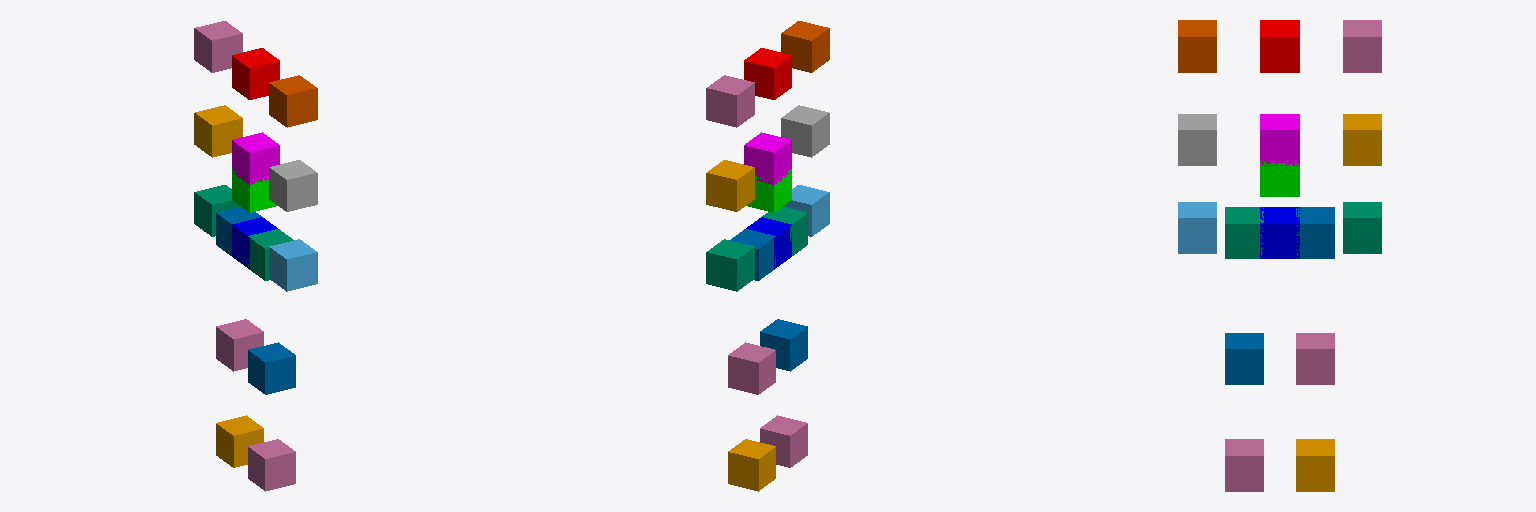
URDF robot description (simple_humanoid):
<?xml version="1.0"?>
<!--
   simple_humanoid URDF model

   FIXME: fill missing data: sole, gripper and sensors
  -->
<robot xmlns:xacro="http://ros.org/wiki/xacro" name="simple_humanoid">
  <link name="base_link"/>

  <link name="REAL_BODY">
    <inertial>
      <origin xyz="0 0 0" rpy="0 0 0"/>
      <mass value="0.01"/>
      <inertia ixx="1" ixy="0" ixz="0" iyy="1" iyz="0" izz="1" />
    </inertial>
    <visual>
      <geometry>
        <box size="0.1 0.1 0.1"/>
      </geometry>
      <material name="pink">
        <color rgba="1 0 1 1"/>
      </material>
    </visual>
  </link>

  <!-- VRML link name="WAIST_LINK0" -->
  <link name="BODY">
    <inertial>
      <origin xyz="0 0 0.0375" rpy="0 0 0"/>
      <mass value="27"/>
      <inertia ixx="1" ixy="0" ixz="0" iyy="1" iyz="0" izz="1" />
    </inertial>
    <collision name="test">
      <geometry>
        <cylinder radius="1" length="1"/>
      </geometry>
    </collision>
    <collision name="box">
      <geometry>
        <mesh filename="../meshes/box.stl" />
      </geometry>
    </collision>
    <collision_checking>
      <!--- This tells to pinocchio to replace the cylinder called "test"
           by a capsule with the same radius and length -->
      <capsule name="test"/>
      <convex name="box"/>
    </collision_checking>
    <visual>
      <geometry>
        <box size="0.1 0.1 0.1"/>
      </geometry>
      <material name="blue">
        <color rgba="0 0 1 1"/>
      </material>
    </visual>
  </link>

  <link name="WAIST_LINK1">
    <inertial>
      <origin xyz="0 0 -0.1" rpy="0 0 0"/>
      <mass value="6"/>
      <inertia ixx="1" ixy="0" ixz="0" iyy="1" iyz="0" izz="1" />
    </inertial>
    <visual>
      <geometry>
        <box size="0.1 0.1 0.1"/>
      </geometry>
      <material name="green">
        <color rgba="0 1 0 1"/>
      </material>
    </visual>
  </link>

  <link name="WAIST_LINK2">
    <inertial>
      <origin xyz="0.11 0 0.25" rpy="0 0 0"/>
      <mass value="30"/>
      <inertia ixx="1" ixy="0" ixz="0" iyy="1" iyz="0" izz="1" />
    </inertial>
    <visual>
      <geometry>
        <box size="0.1 0.1 0.1"/>
      </geometry>
      <material name="black">
        <color rgba="0 0 0 1"/>
      </material>
    </visual>
  </link>

  <!-- VRML link name="WAIST_LINK3" -->
  <link name="torso">
    <inertial>
      <origin xyz="0 0 0" rpy="0 0 0"/>
      <mass value="13"/>
      <inertia ixx="1" ixy="0" ixz="0" iyy="1" iyz="0" izz="1" />
    </inertial>
    <visual>
      <geometry>
        <box size="0.1 0.1 0.1"/>
      </geometry>
      <material name="red">
        <color rgba="1 0 0 1"/>
      </material>
    </visual>
  </link>

  <link name="LARM_LINK1">
    <inertial>
      <origin xyz="0.1 0 0" rpy="0 0 0"/>
      <mass value="3"/>
      <inertia ixx="1" ixy="0" ixz="0" iyy="1" iyz="0" izz="1" />
    </inertial>
    <visual>
      <geometry>
        <box size="0.1 0.1 0.1"/>
      </geometry>
    </visual>
  </link>

  <link name="LARM_LINK2">
    <inertial>
      <origin xyz="0 0 -0.1" rpy="0 0 0"/>
      <mass value="0.6"/>
      <inertia ixx="1" ixy="0" ixz="0" iyy="1" iyz="0" izz="1" />
    </inertial>
    <visual>
      <geometry>
        <box size="0.1 0.1 0.1"/>
      </geometry>
    </visual>
  </link>

  <link name="LARM_LINK3">
    <inertial>
      <origin xyz="0 0 0" rpy="0 0 0"/>
      <mass value="1"/>
      <inertia ixx="1" ixy="0" ixz="0" iyy="1" iyz="0" izz="1" />
    </inertial>
    <visual>
      <geometry>
        <box size="0.1 0.1 0.1"/>
      </geometry>
    </visual>
  </link>

  <link name="LARM_LINK4">
    <inertial>
      <origin xyz="0 0 -0.3" rpy="0 0 0"/>
      <mass value="0.6"/>
      <inertia ixx="1" ixy="0" ixz="0" iyy="1" iyz="0" izz="1" />
    </inertial>
    <visual>
      <geometry>
        <box size="0.1 0.1 0.1"/>
      </geometry>
    </visual>
  </link>

  <link name="LARM_LINK5">
    <inertial>
      <origin xyz="0 0 0.1" rpy="0 0 0"/>
      <mass value="0.4"/>
      <inertia ixx="1" ixy="0" ixz="0" iyy="1" iyz="0" izz="1" />
    </inertial>
    <visual>
      <geometry>
        <box size="0.1 0.1 0.1"/>
      </geometry>
    </visual>
  </link>

  <link name="LARM_LINK6">
    <inertial>
      <origin xyz="-0.1 0 0" rpy="0 0 0"/>
      <mass value="0.4"/>
      <inertia ixx="1" ixy="0" ixz="0" iyy="1" iyz="0" izz="1" />
    </inertial>
    <visual>
      <geometry>
        <box size="0.1 0.1 0.1"/>
      </geometry>
    </visual>
  </link>

  <!-- VRML link name="LARM_LINK7" -->
  <link name="l_wrist">
    <inertial>
      <origin xyz="0 0 -0.1" rpy="0 0 0"/>
      <mass value="0.4"/>
      <inertia ixx="1" ixy="0" ixz="0" iyy="1" iyz="0" izz="1" />
    </inertial>
    <visual>
      <geometry>
        <box size="0.1 0.1 0.1"/>
      </geometry>
    </visual>
  </link>

  <link name="RARM_LINK1">
    <inertial>
      <origin xyz="0.1 0 0" rpy="0 0 0"/>
      <mass value="3"/>
      <inertia ixx="1" ixy="0" ixz="0" iyy="1" iyz="0" izz="1" />
    </inertial>
    <visual>
      <geometry>
        <box size="0.1 0.1 0.1"/>
      </geometry>
    </visual>
  </link>

  <link name="RARM_LINK2">
    <inertial>
      <origin xyz="0 0 -0.1" rpy="0 0 0"/>
      <mass value="0.6"/>
      <inertia ixx="1" ixy="0" ixz="0" iyy="1" iyz="0" izz="1" />
    </inertial>
    <visual>
      <geometry>
        <box size="0.1 0.1 0.1"/>
      </geometry>
    </visual>
  </link>

  <link name="RARM_LINK3">
    <inertial>
      <origin xyz="0 0 0" rpy="0 0 0"/>
      <mass value="1"/>
      <inertia ixx="1" ixy="0" ixz="0" iyy="1" iyz="0" izz="1" />
    </inertial>
    <visual>
      <geometry>
        <box size="0.1 0.1 0.1"/>
      </geometry>
    </visual>
  </link>

  <link name="RARM_LINK4">
    <inertial>
      <origin xyz="0 0 -0.3" rpy="0 0 0"/>
      <mass value="0.6"/>
      <inertia ixx="1" ixy="0" ixz="0" iyy="1" iyz="0" izz="1" />
    </inertial>
    <visual>
      <geometry>
        <box size="0.1 0.1 0.1"/>
      </geometry>
    </visual>
  </link>

  <link name="RARM_LINK5">
    <inertial>
      <origin xyz="0 0 0.1" rpy="0 0 0"/>
      <mass value="0.4"/>
      <inertia ixx="1" ixy="0" ixz="0" iyy="1" iyz="0" izz="1" />
    </inertial>
    <visual>
      <geometry>
        <box size="0.1 0.1 0.1"/>
      </geometry>
    </visual>
  </link>

  <link name="RARM_LINK6">
    <inertial>
      <origin xyz="-0.1 0 0" rpy="0 0 0"/>
      <mass value="0.4"/>
      <inertia ixx="1" ixy="0" ixz="0" iyy="1" iyz="0" izz="1" />
    </inertial>
    <visual>
      <geometry>
        <box size="0.1 0.1 0.1"/>
      </geometry>
    </visual>
  </link>

  <!-- VRML link name="RARM_LINK7" -->
  <link name="r_wrist">
    <inertial>
      <origin xyz="0 0 -0.1" rpy="0 0 0"/>
      <mass value="0.4"/>
      <inertia ixx="1" ixy="0" ixz="0" iyy="1" iyz="0" izz="1" />
    </inertial>
    <visual>
      <geometry>
        <box size="0.1 0.1 0.1"/>
      </geometry>
    </visual>
  </link>

  <link name="LLEG_LINK1">
    <inertial>
      <origin xyz="0 0.1 0" rpy="0 0 0"/>
      <mass value="2.5"/>
      <inertia ixx="1" ixy="0" ixz="0" iyy="1" iyz="0" izz="1" />
    </inertial>
    <visual>
      <geometry>
        <box size="0.1 0.1 0.1"/>
      </geometry>
    </visual>
  </link>

  <link name="LLEG_LINK2">
    <inertial>
      <origin xyz="0 0 -0.15" rpy="0 0 0"/>
      <mass value="2"/>
      <inertia ixx="1" ixy="0" ixz="0" iyy="1" iyz="0" izz="1" />
    </inertial>
    <visual>
      <geometry>
        <box size="0.1 0.1 0.1"/>
      </geometry>
    </visual>
  </link>

  <link name="LLEG_LINK3">
    <inertial>
      <origin xyz="0 0.04 0" rpy="0 0 0"/>
      <mass value="5.1"/>
      <inertia ixx="1" ixy="0" ixz="0" iyy="1" iyz="0" izz="1" />
    </inertial>
    <visual>
      <geometry>
        <box size="0.1 0.1 0.1"/>
      </geometry>
    </visual>
  </link>

  <link name="LLEG_LINK4">
    <inertial>
      <origin xyz="0 0 -0.3" rpy="0 0 0"/>
      <mass value="7"/>
      <inertia ixx="1" ixy="0" ixz="0" iyy="1" iyz="0" izz="1" />
    </inertial>
    <visual>
      <geometry>
        <box size="0.1 0.1 0.1"/>
      </geometry>
    </visual>
  </link>

  <link name="LLEG_LINK5">
    <inertial>
      <origin xyz="-0.15 0 0" rpy="0 0 0"/>
      <mass value="2.5"/>
      <inertia ixx="1" ixy="0" ixz="0" iyy="1" iyz="0" izz="1" />
    </inertial>
    <visual>
      <geometry>
        <box size="0.1 0.1 0.1"/>
      </geometry>
    </visual>
  </link>

  <!-- VRML link name="LLEG_LINK6" -->
  <link name="l_ankle">
    <inertial>
      <origin xyz="0.28 0 -0.2" rpy="0 0 0"/>
      <mass value="1.9"/>
      <inertia ixx="1" ixy="0" ixz="0" iyy="1" iyz="0" izz="1" />
    </inertial>
    <visual>
      <geometry>
        <box size="0.1 0.1 0.1"/>
      </geometry>
    </visual>
  </link>

  <link name="RLEG_LINK1">
    <inertial>
      <origin xyz="0 -0.1 0" rpy="0 0 0"/>
      <mass value="2.5"/>
      <inertia ixx="1" ixy="0" ixz="0" iyy="1" iyz="0" izz="1" />
    </inertial>
    <visual>
      <geometry>
        <box size="0.1 0.1 0.1"/>
      </geometry>
    </visual>
  </link>

  <link name="RLEG_LINK2">
    <inertial>
      <origin xyz="0 0 -0.15" rpy="0 0 0"/>
      <mass value="2"/>
      <inertia ixx="1" ixy="0" ixz="0" iyy="1" iyz="0" izz="1" />
    </inertial>
    <visual>
      <geometry>
        <box size="0.1 0.1 0.1"/>
      </geometry>
    </visual>
  </link>

  <link name="RLEG_LINK3">
    <inertial>
      <origin xyz="0 -0.04 0" rpy="0 0 0"/>
      <mass value="5.1"/>
      <inertia ixx="1" ixy="0" ixz="0" iyy="1" iyz="0" izz="1" />
    </inertial>
    <visual>
      <geometry>
        <box size="0.1 0.1 0.1"/>
      </geometry>
    </visual>
  </link>

  <link name="RLEG_LINK4">
    <inertial>
      <origin xyz="0 0 -0.3" rpy="0 0 0"/>
      <mass value="7"/>
      <inertia ixx="1" ixy="0" ixz="0" iyy="1" iyz="0" izz="1" />
    </inertial>
    <visual>
      <geometry>
        <box size="0.1 0.1 0.1"/>
      </geometry>
    </visual>
  </link>

  <link name="RLEG_LINK5">
    <inertial>
      <origin xyz="-0.15 0 0" rpy="0 0 0"/>
      <mass value="2.5"/>
      <inertia ixx="1" ixy="0" ixz="0" iyy="1" iyz="0" izz="1" />
    </inertial>
    <visual>
      <geometry>
        <box size="0.1 0.1 0.1"/>
      </geometry>
    </visual>
  </link>

  <!-- VRML link name="RLEG_LINK6" -->
  <link name="r_ankle">
    <inertial>
      <origin xyz="0.28 0 -0.2" rpy="0 0 0"/>
      <mass value="1.9"/>
      <inertia ixx="1" ixy="0" ixz="0" iyy="1" iyz="0" izz="1" />
    </inertial>
    <visual>
      <geometry>
        <box size="0.1 0.1 0.1"/>
      </geometry>
    </visual>
  </link>



  <!--   Joints following below -->

  <!-- <joint name="waist" type="fixed">
    <parent link="base_link"/>
    <child link="BODY"/>
    <origin xyz="0 0 0" rpy="0 0 0"/>
  </joint> -->

  <joint name="waist" type="fixed">
    <parent link="base_link"/>
    <child link="REAL_BODY"/>
    <origin xyz="0 0 0" rpy="0 0 0"/>
  </joint>

  <joint name="RLEG_HIP_R" type="revolute">
    <origin xyz="0 -0.09 0" rpy="0 0 0"/>
    <axis xyz="1 0 0"/>
    <parent link="BODY"/>
    <child link="RLEG_LINK1"/>
    <limit effort="300.0" lower="-0.5" upper="0.5" velocity="30.0" />
  </joint>

  <joint name="RLEG_HIP_P" type="revolute">
    <origin xyz="0 0 0" rpy="0 0 0"/>
    <axis xyz="0 1 0"/>
    <parent link="RLEG_LINK1"/>
    <child link="RLEG_LINK2"/>
    <limit effort="300.0" lower="-3.1" upper="3.1" velocity="30.0"/>
  </joint>

  <joint name="RLEG_HIP_Y" type="revolute">
    <origin xyz="0 0 -0.3535" rpy="0 0 0"/>
    <axis xyz="0 0 1"/>
    <parent link="RLEG_LINK2"/>
    <child link="RLEG_LINK3"/>
    <limit effort="300.0" lower="-1.0" upper="1.0" velocity="30.0"/>
  </joint>

  <joint name="RLEG_KNEE" type="revolute">
    <origin xyz="0 0 0" rpy="0 0 0"/>
    <axis xyz="0 1 0"/>
    <parent link="RLEG_LINK3"/>
    <child link="RLEG_LINK4"/>
    <limit effort="300.0" lower="-3.1" upper="3.1" velocity="30.0"/>
  </joint>

  <joint name="RLEG_ANKLE_P" type="revolute">
    <origin xyz="0 0 -0.3" rpy="0 0 0"/>
    <axis xyz="0 1 0"/>
    <parent link="RLEG_LINK4"/>
    <child link="RLEG_LINK5"/>
    <limit effort="300.0" lower="-3.1" upper="3.1" velocity="30.0" />
  </joint>

  <joint name="RLEG_ANKLE_R" type="revolute">
    <origin xyz="0 0 0" rpy="0 0 0"/>
    <axis xyz="1 0 0"/>
    <parent link="RLEG_LINK5"/>
    <child link="r_ankle"/>
    <limit effort="300.0" lower="-3.1" upper="3.1" velocity="30.0"/>
  </joint>

  <joint name="RARM_SHOULDER_P" type="revolute">
    <origin xyz="0 -0.21 0" rpy="0 0 0"/>
    <axis xyz="0 1 0"/>
    <parent link="torso"/>
    <child link="RARM_LINK1"/>
    <limit effort="300.0" lower="-3.1" upper="3.1" velocity="30.0"/>
  </joint>

  <joint name="RARM_SHOULDER_R" type="revolute">
    <origin xyz="0 0 0" rpy="0 0 0"/>
    <axis xyz="1 0 0"/>
    <parent link="RARM_LINK1"/>
    <child link="RARM_LINK2"/>
    <limit effort="300.0" lower="-1.75" upper="0.5" velocity="30.0"/>
  </joint>

  <joint name="RARM_SHOULDER_Y" type="fixed">
    <origin xyz="0 0 -0.263" rpy="0 0 0"/>
    <axis xyz="0 0 1"/>
    <parent link="RARM_LINK2"/>
    <child link="RARM_LINK3"/>
    <limit effort="300.0" lower="-3.1" upper="3.1" velocity="30.0"/>
  </joint>

  <joint name="RARM_ELBOW" type="revolute">
    <origin xyz="0 0 0" rpy="0 0 0"/>
    <axis xyz="0 1 0"/>
    <parent link="RARM_LINK3"/>
    <child link="RARM_LINK4"/>
    <limit effort="300.0" lower="-3.1" upper="0.1" velocity="30.0"/>
  </joint>

  <joint name="RARM_WRIST_Y" type="fixed">
    <origin xyz="0 0 -0.247" rpy="0 0 0"/>
    <axis xyz="0 0 1"/>
    <parent link="RARM_LINK4"/>
    <child link="RARM_LINK5"/>
    <limit effort="300.0" lower="-3.1" upper="3.1" velocity="30.0"/>
  </joint>

  <joint name="RARM_WRIST_P" type="fixed">
    <origin xyz="0 0 0" rpy="0 0 0"/>
    <axis xyz="0 1 0"/>
    <parent link="RARM_LINK5"/>
    <child link="RARM_LINK6"/>
    <limit effort="300.0" lower="-3.1" upper="3.1" velocity="30.0"/>
  </joint>

  <joint name="RARM_WRIST_R" type="fixed">
    <origin xyz="0 0 0" rpy="0 0 0"/>
    <axis xyz="1 0 0"/>
    <parent link="RARM_LINK6"/>
    <child link="r_wrist"/>
    <limit effort="300.0" lower="-3.1" upper="3.1" velocity="30.0"/>
  </joint>

  <joint name="LLEG_HIP_R" type="revolute">
    <origin xyz="0 0.09 0" rpy="0 0 0"/>
    <axis xyz="1 0 0"/>
    <parent link="BODY"/>
    <child link="LLEG_LINK1"/>
    <limit effort="300.0" lower="-0.5" upper="0.5" velocity="30.0"/>
  </joint>

  <joint name="LLEG_HIP_P" type="revolute">
    <origin xyz="0 0 0" rpy="0 0 0"/>
    <axis xyz="0 1 0"/>
    <parent link="LLEG_LINK1"/>
    <child link="LLEG_LINK2"/>
    <limit effort="300.0" lower="-3.1" upper="3.1" velocity="30.0"/>
  </joint>

  <joint name="LLEG_HIP_Y" type="revolute">
    <origin xyz="0 0 -0.3535" rpy="0 0 0"/>
    <axis xyz="0 0 1"/>
    <parent link="LLEG_LINK2"/>
    <child link="LLEG_LINK3"/>
    <limit effort="300.0" lower="-1.0" upper="1.0" velocity="30.0"/>
  </joint>

  <joint name="LLEG_KNEE" type="revolute">
    <origin xyz="0 0 0" rpy="0 0 0"/>
    <axis xyz="0 1 0"/>
    <parent link="LLEG_LINK3"/>
    <child link="LLEG_LINK4"/>
    <limit effort="300.0" lower="-3.1" upper="3.1" velocity="30.0"/>
  </joint>

  <joint name="LLEG_ANKLE_P" type="revolute">
    <origin xyz="0 0 -0.3" rpy="0 0 0"/>
    <axis xyz="0 1 0"/>
    <parent link="LLEG_LINK4"/>
    <child link="LLEG_LINK5"/>
    <limit effort="300.0" lower="-3.1" upper="3.1" velocity="30.0"/>
  </joint>

  <joint name="LLEG_ANKLE_R" type="revolute">
    <origin xyz="0 0 0" rpy="0 0 0"/>
    <axis xyz="1 0 0"/>
    <parent link="LLEG_LINK5"/>
    <child link="l_ankle"/>
    <limit effort="300.0" lower="-3.1" upper="3.1" velocity="30.0"/>
  </joint>

  <joint name="LARM_SHOULDER_P" type="revolute">
    <origin xyz="0 0.21 0" rpy="0 0 0"/>
    <axis xyz="0 1 0"/>
    <parent link="torso"/>
    <child link="LARM_LINK1"/>
    <limit effort="300.0" lower="-3.1" upper="3.1" velocity="30.0"/>
  </joint>

  <joint name="LARM_SHOULDER_R" type="revolute">
    <origin xyz="0 0 0" rpy="0 0 0"/>
    <axis xyz="1 0 0"/>
    <parent link="LARM_LINK1"/>
    <child link="LARM_LINK2"/>
    <limit effort="300.0" lower="-0.5" upper="1.75" velocity="30.0"/>
  </joint>

  <joint name="LARM_SHOULDER_Y" type="fixed">
    <origin xyz="0 0 -0.263" rpy="0 0 0"/>
    <axis xyz="0 0 1"/>
    <parent link="LARM_LINK2"/>
    <child link="LARM_LINK3"/>
    <limit effort="300.0" lower="-3.1" upper="3.1" velocity="30.0"/>
  </joint>

  <joint name="LARM_ELBOW" type="revolute">
    <origin xyz="0 0 0" rpy="0 0 0"/>
    <axis xyz="0 1 0"/>
    <parent link="LARM_LINK3"/>
    <child link="LARM_LINK4"/>
    <limit effort="300.0" lower="-3.1" upper="0.1" velocity="30.0"/>
  </joint>

  <joint name="LARM_WRIST_Y" type="fixed">
    <origin xyz="0 0 -0.247" rpy="0 0 0"/>
    <axis xyz="0 0 1"/>
    <parent link="LARM_LINK4"/>
    <child link="LARM_LINK5"/>
    <limit effort="300.0" lower="-3.1" upper="3.1" velocity="30.0"/>
  </joint>

  <joint name="LARM_WRIST_P" type="fixed">
    <origin xyz="0 0 0" rpy="0 0 0"/>
    <axis xyz="0 1 0"/>
    <parent link="LARM_LINK5"/>
    <child link="LARM_LINK6"/>
    <limit effort="300.0" lower="-3.1" upper="3.1" velocity="30.0"/>
  </joint>

  <joint name="LARM_WRIST_R" type="fixed">
    <origin xyz="0 0 0" rpy="0 0 0"/>
    <axis xyz="1 0 0"/>
    <parent link="LARM_LINK6"/>
    <child link="l_wrist"/>
    <limit effort="300.0" lower="-3.1" upper="3.1" velocity="30.0"/>
  </joint>

  <joint name="WAIST_P" type="fixed">
    <origin xyz="0 0 0.176" rpy="0 0 0"/>
    <axis xyz="0 1 0"/>
    <parent link="BODY"/>
    <child link="WAIST_LINK1"/>
    <limit effort="300.0" lower="-3.1" upper="3.1" velocity="30.0" />
  </joint>

  <joint name="WAIST_R" type="fixed">
    <origin xyz="0 0 0" rpy="0 0 0"/>
    <axis xyz="1 0 0"/>
    <parent link="WAIST_LINK1"/>
    <child link="WAIST_LINK2"/>
    <limit effort="300.0" lower="-3.1" upper="3.1" velocity="30.0" />
  </joint>

  <joint name="CHEST" type="fixed">
    <origin xyz="0 0 0.35" rpy="0 0 0"/>
    <axis xyz="0 0 1"/>
    <parent link="WAIST_LINK2"/>
    <child link="torso"/>
    <limit effort="300.0" lower="-3.1" upper="3.1" velocity="30.0" />
  </joint>

  <joint name="REAL_BODY_JOINT" type="fixed">
    <origin xyz="0 0 -0.263" rpy="0 0 0"/>
    <axis xyz="0 0 1"/>
    <parent link="REAL_BODY"/>
    <child link="BODY"/>
  </joint>

</robot>

--- What the picture shows (computed from the rendered views, not written in the file) ---
3 views of the same robot in one strip: view 1: azimuth 30°, elevation 25°; view 2: azimuth 150°, elevation 25°; view 3: azimuth 270°, elevation 25° (orthographic).
Robot: simple_humanoid — 32 links, 31 joints (18 revolute, 13 fixed); root link base_link; default pose: every joint at zero.
Visible links, largest first — view 1: RARM_LINK1, RARM_LINK3, RARM_LINK5, RLEG_LINK3, RLEG_LINK5, LARM_LINK1, LARM_LINK3, torso, REAL_BODY, LLEG_LINK3, LLEG_LINK5, LARM_LINK5 (+4 smaller); view 2: LARM_LINK1, LARM_LINK3, LARM_LINK5, LLEG_LINK3, LLEG_LINK5, RARM_LINK1, RARM_LINK3, torso, REAL_BODY, RLEG_LINK3, RLEG_LINK5, RARM_LINK5 (+4 smaller); view 3: torso, LARM_LINK1, RARM_LINK1, LLEG_LINK5, RLEG_LINK5, LARM_LINK3, LARM_LINK5, RARM_LINK3, RARM_LINK5, LLEG_LINK3, RLEG_LINK3, REAL_BODY (+4 smaller).
Link boxes in pixels (left/top/right/bottom): RARM_LINK1: left=269, top=75, right=317, bottom=127; RARM_LINK3: left=269, top=160, right=317, bottom=211; RARM_LINK5: left=269, top=239, right=317, bottom=291; RLEG_LINK3: left=248, top=342, right=295, bottom=394; RLEG_LINK5: left=248, top=439, right=295, bottom=491; LARM_LINK1: left=194, top=21, right=242, bottom=72; LARM_LINK3: left=194, top=105, right=242, bottom=157; torso: left=232, top=48, right=279, bottom=99; REAL_BODY: left=232, top=132, right=279, bottom=184; LLEG_LINK3: left=216, top=319, right=263, bottom=371; LLEG_LINK5: left=216, top=415, right=263, bottom=467; LARM_LINK5: left=194, top=185, right=240, bottom=236; LARM_LINK1: left=706, top=75, right=754, bottom=127; LARM_LINK3: left=706, top=160, right=754, bottom=211; LARM_LINK5: left=706, top=239, right=754, bottom=291; LLEG_LINK3: left=728, top=342, right=775, bottom=394; LLEG_LINK5: left=728, top=439, right=775, bottom=491; RARM_LINK1: left=781, top=21, right=829, bottom=72; RARM_LINK3: left=781, top=105, right=829, bottom=157; torso: left=744, top=48, right=791, bottom=99; REAL_BODY: left=744, top=132, right=791, bottom=184; RLEG_LINK3: left=760, top=319, right=807, bottom=371; RLEG_LINK5: left=760, top=415, right=807, bottom=467; RARM_LINK5: left=783, top=185, right=829, bottom=236; torso: left=1260, top=20, right=1299, bottom=72; LARM_LINK1: left=1343, top=20, right=1381, bottom=72; RARM_LINK1: left=1178, top=20, right=1216, bottom=72; LLEG_LINK5: left=1296, top=439, right=1334, bottom=491; RLEG_LINK5: left=1225, top=439, right=1263, bottom=491; LARM_LINK3: left=1343, top=114, right=1381, bottom=165; LARM_LINK5: left=1343, top=202, right=1381, bottom=253; RARM_LINK3: left=1178, top=114, right=1216, bottom=165; RARM_LINK5: left=1178, top=202, right=1216, bottom=253; LLEG_LINK3: left=1296, top=333, right=1334, bottom=384; RLEG_LINK3: left=1225, top=333, right=1263, bottom=384; REAL_BODY: left=1260, top=114, right=1299, bottom=165.
Bounding box of the posed robot: 0.1 × 0.52 × 1.28 m (x, y, z).
Geometry: primitives only (box / cylinder / sphere), no mesh files.
